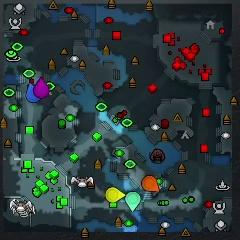p1: (25, 81, 40, 103)
p2: (126, 192, 140, 212)
p3: (33, 76, 49, 99)
p4: (106, 186, 125, 203)
p5: (142, 176, 160, 192)
